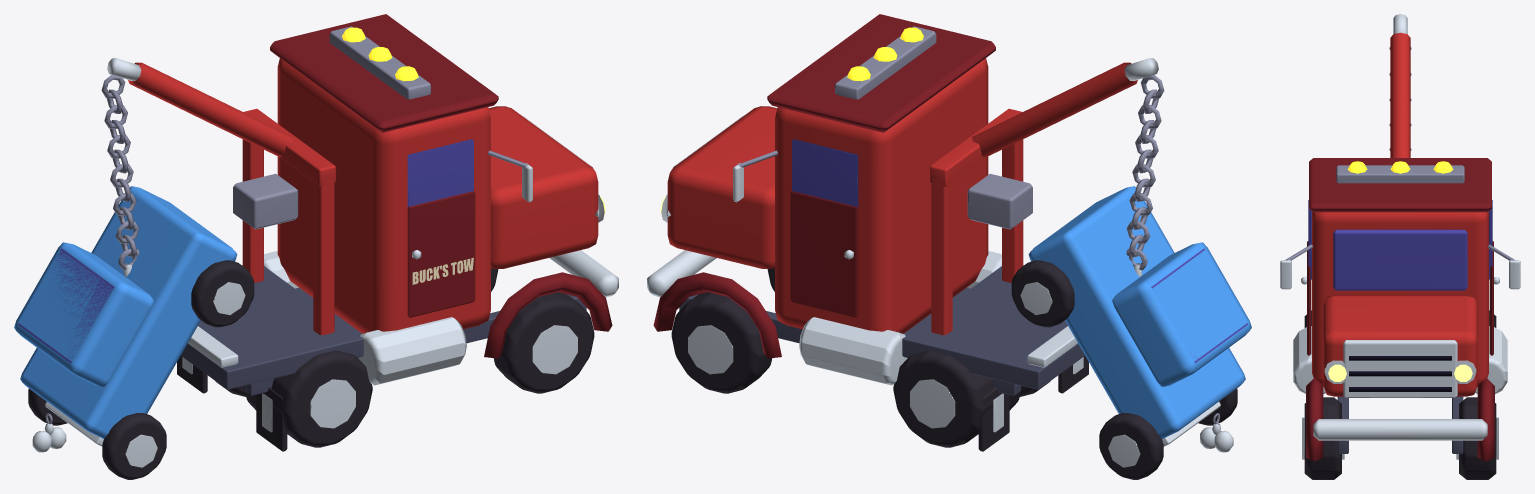
File: tow_truck.glb
3 renders of one model, left to right at view 1: azimuth 30°, elevation 25°; view 2: azimuth 150°, elevation 25°; view 3: azimuth 270°, elevation 25°, orthographic. The views are drawn at different scales.
Visible parts, largest first — view 1: Truck, LightBar, Lamps; view 2: Truck, LightBar, Lamps; view 3: Truck, LightBar, Lamps.
Boxes of the visible parts, x1=… form: Truck: x1=14, y1=14, x2=618, y2=479; LightBar: x1=329, y1=26, x2=430, y2=99; Lamps: x1=342, y1=27, x2=418, y2=81; Truck: x1=647, y1=14, x2=1251, y2=479; LightBar: x1=835, y1=26, x2=936, y2=99; Lamps: x1=847, y1=27, x2=923, y2=81; Truck: x1=1280, y1=14, x2=1520, y2=479; LightBar: x1=1336, y1=165, x2=1464, y2=183; Lamps: x1=1347, y1=161, x2=1453, y2=173.
Size of the model in its own units: 3.5 by 2.41 by 1.68.
